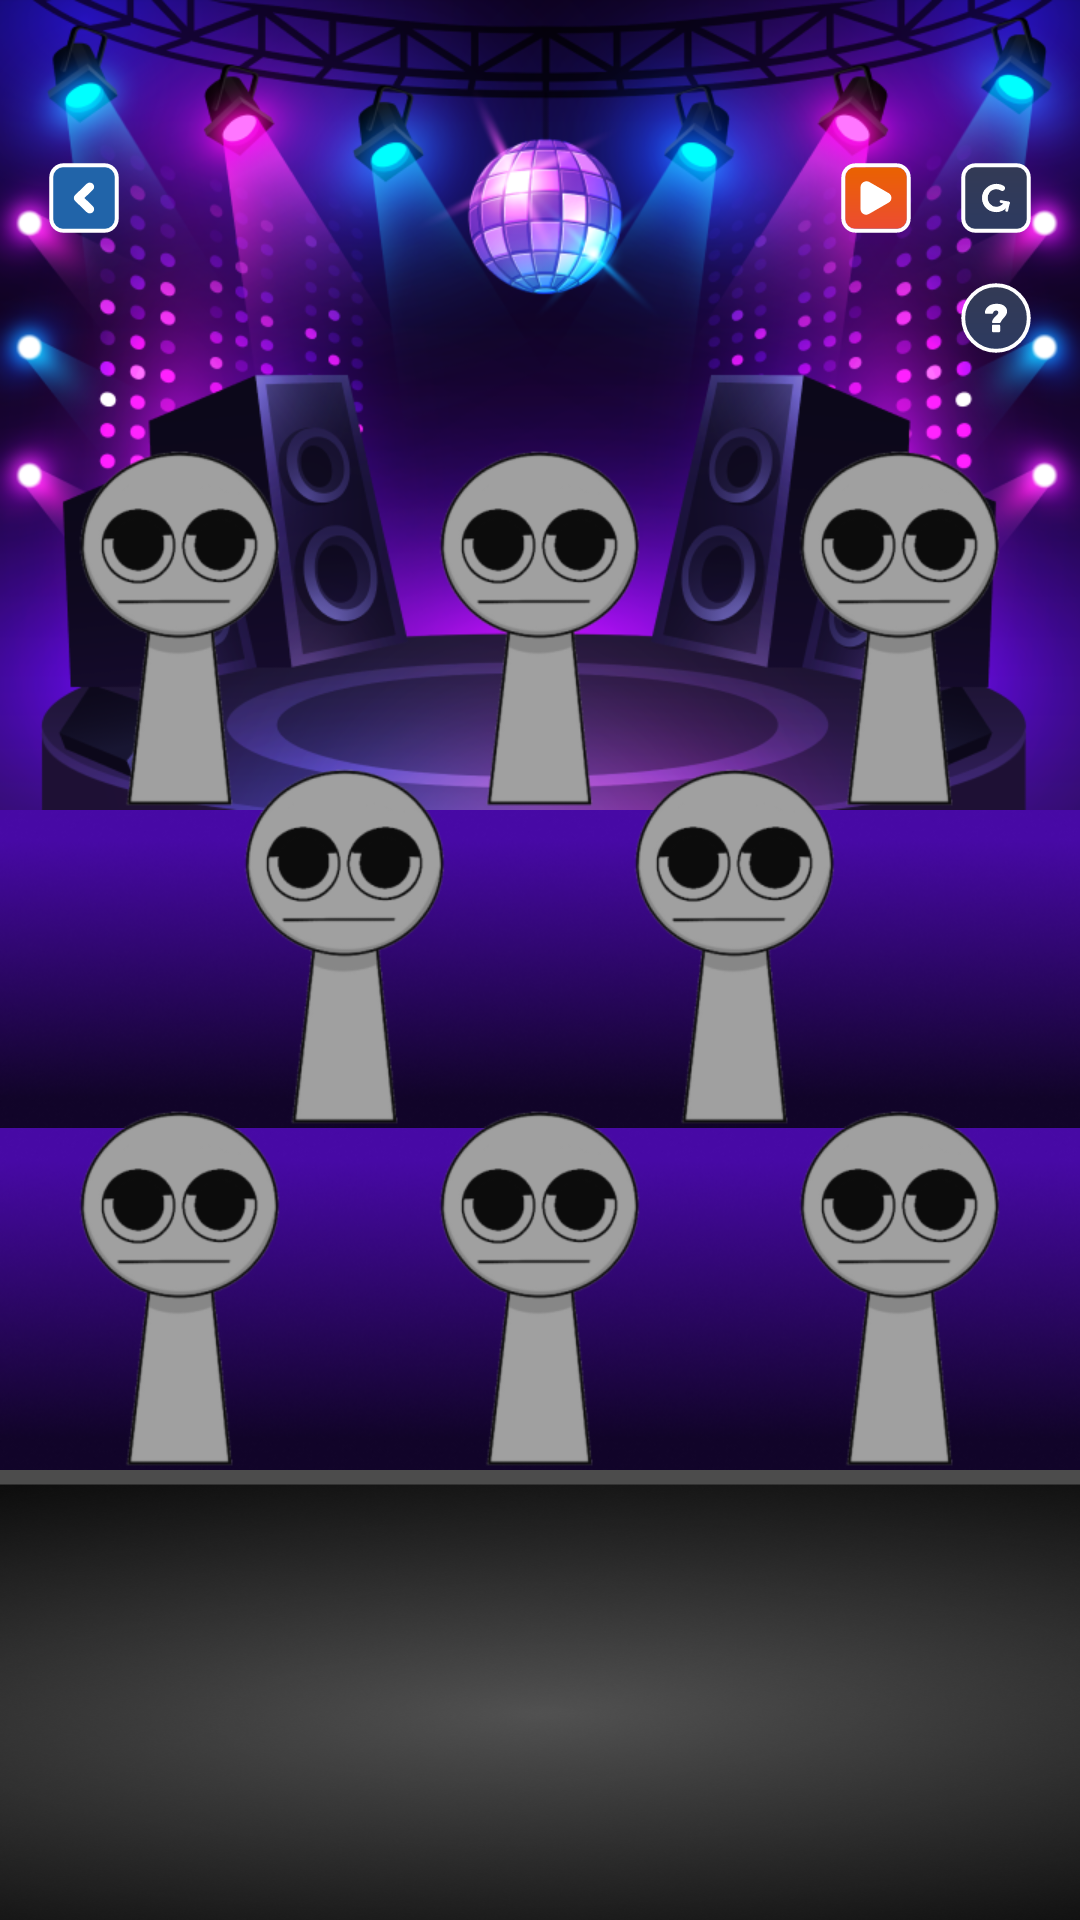

Where to tap for icons on this 1080px×1920px app screen, as [x,y]:
imv back: [84,198]
imv play: [876,198]
imv request: [996,318]
imv restart: [996,198]
